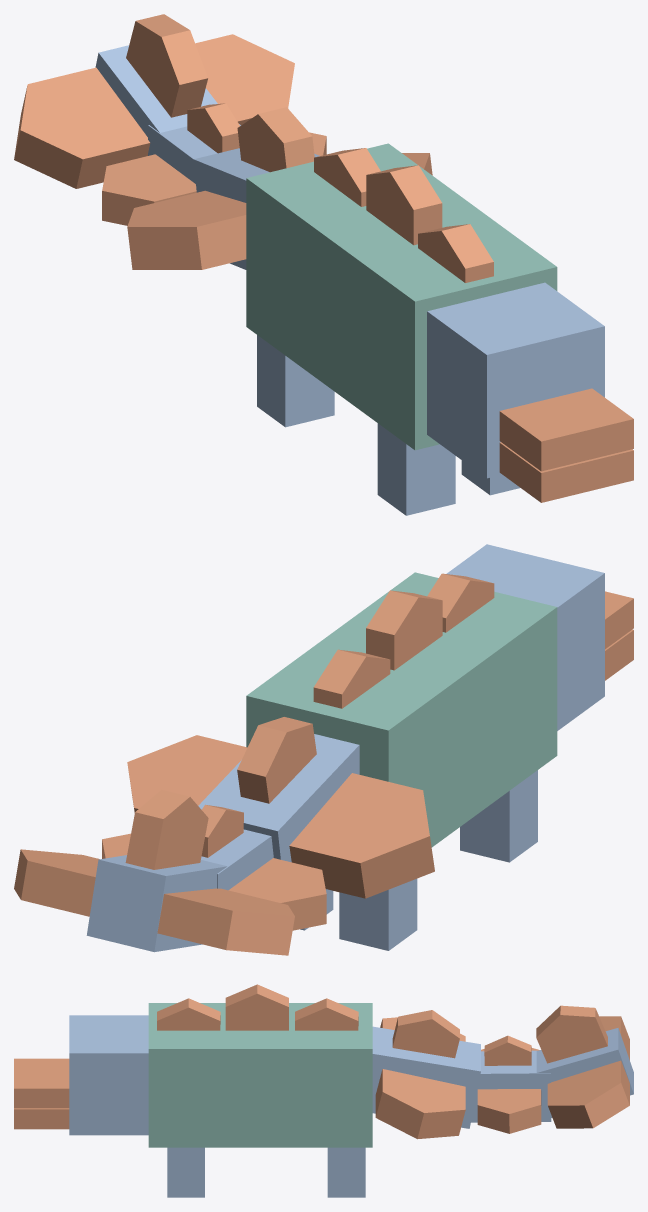
Rendered from Plappy.fbx.
3 views of the same model, one above another, from view 1: azimuth 30°, elevation 25°; view 2: azimuth 150°, elevation 25°; view 3: azimuth 270°, elevation 25° (orthographic). The views are drawn at different scales.
Parts seen in each view (by area): view 1: Cube, Cube.004, Cube.011, Cube.006, Cube.003, Cube.012, Cube.010, Cube.007, Cube.013, Cube.009; view 2: Cube, Cube.006, Cube.004, Cube.011, Cube.003, Cube.010, Cube.007, Cube.012, Cube.013; view 3: Cube, Cube.006, Cube.004, Cube.011, Cube.003, Cube.012, Cube.008, Cube.009, Cube.013.
Boxes of the visible parts, <box> form: Cube: <box>246,143,557,450</box>; Cube.004: <box>14,14,294,188</box>; Cube.011: <box>427,282,604,478</box>; Cube.006: <box>127,107,432,269</box>; Cube.003: <box>102,103,326,225</box>; Cube.012: <box>499,388,633,471</box>; Cube.010: <box>377,423,455,515</box>; Cube.007: <box>257,335,334,427</box>; Cube.013: <box>499,442,633,502</box>; Cube.009: <box>461,460,520,495</box>; Cube: <box>246,572,557,847</box>; Cube.006: <box>127,717,434,898</box>; Cube.004: <box>14,789,294,955</box>; Cube.011: <box>446,544,604,730</box>; Cube.003: <box>102,804,326,930</box>; Cube.010: <box>460,770,537,862</box>; Cube.007: <box>339,879,417,950</box>; Cube.012: <box>605,591,633,649</box>; Cube.013: <box>605,629,633,680</box>; Cube: <box>148,984,372,1147</box>; Cube.006: <box>372,1010,480,1139</box>; Cube.004: <box>536,1005,633,1128</box>; Cube.011: <box>69,1015,148,1135</box>; Cube.003: <box>471,1035,551,1133</box>; Cube.012: <box>14,1058,69,1108</box>; Cube.008: <box>327,1147,365,1197</box>; Cube.009: <box>167,1147,204,1197</box>; Cube.013: <box>14,1108,69,1129</box>.
Size of the model in its own units: 295 by 262 by 789.
